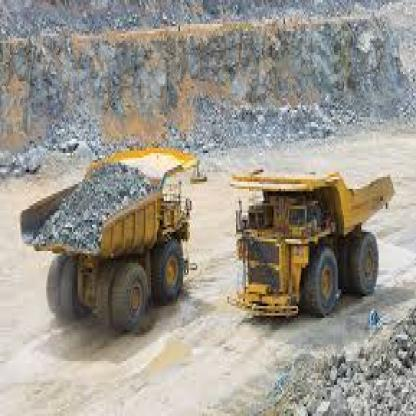dump_truck: (15, 131, 204, 346), (223, 141, 397, 332)
